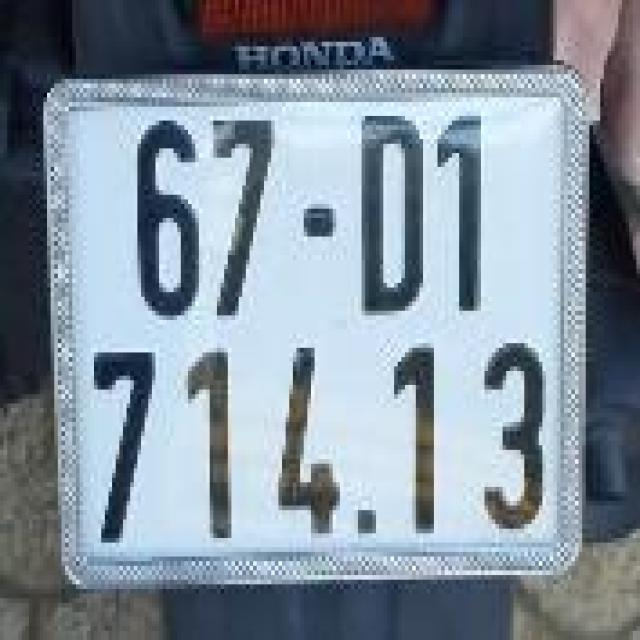1: (381, 336, 454, 545), (428, 100, 494, 327), (179, 341, 248, 554)
3: (470, 338, 561, 534)
4: (262, 334, 356, 552)
6: (132, 116, 204, 334)
7: (82, 330, 165, 548), (208, 104, 284, 327)
D: (347, 109, 434, 322)
